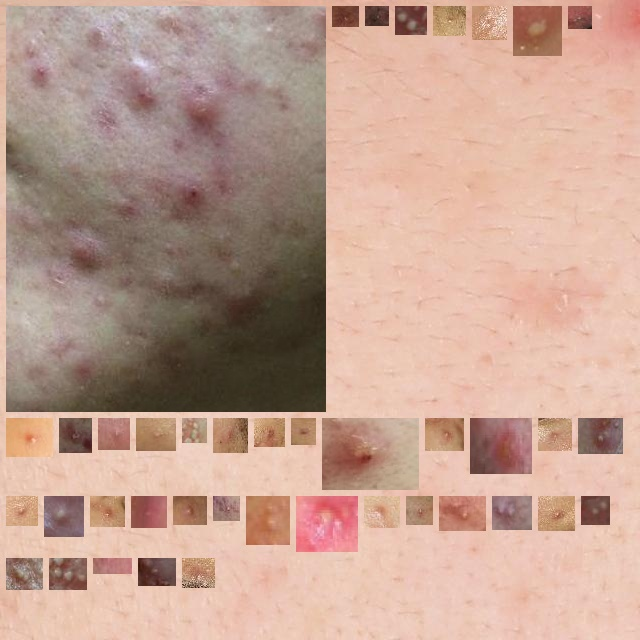pustule: (14, 14, 318, 404), (330, 426, 411, 482), (478, 426, 524, 466), (304, 504, 350, 544), (521, 14, 554, 48), (254, 504, 282, 537), (14, 426, 45, 449), (52, 504, 76, 529), (447, 504, 478, 523), (586, 426, 615, 446), (500, 504, 524, 522), (144, 426, 168, 443), (546, 504, 567, 523), (433, 426, 456, 443), (221, 426, 240, 445), (57, 566, 79, 582), (480, 14, 499, 32), (14, 566, 35, 582), (67, 426, 84, 445), (139, 504, 159, 520), (372, 504, 392, 520), (546, 426, 564, 443), (98, 504, 117, 519), (146, 566, 168, 578), (106, 426, 122, 442), (441, 14, 458, 28), (190, 566, 207, 580), (181, 504, 199, 517), (14, 504, 30, 518), (403, 14, 419, 27), (262, 426, 277, 439), (589, 504, 602, 517), (414, 504, 425, 517), (340, 14, 351, 25), (299, 426, 308, 437), (221, 504, 232, 513), (190, 426, 199, 435), (576, 14, 584, 21), (373, 14, 381, 18)
